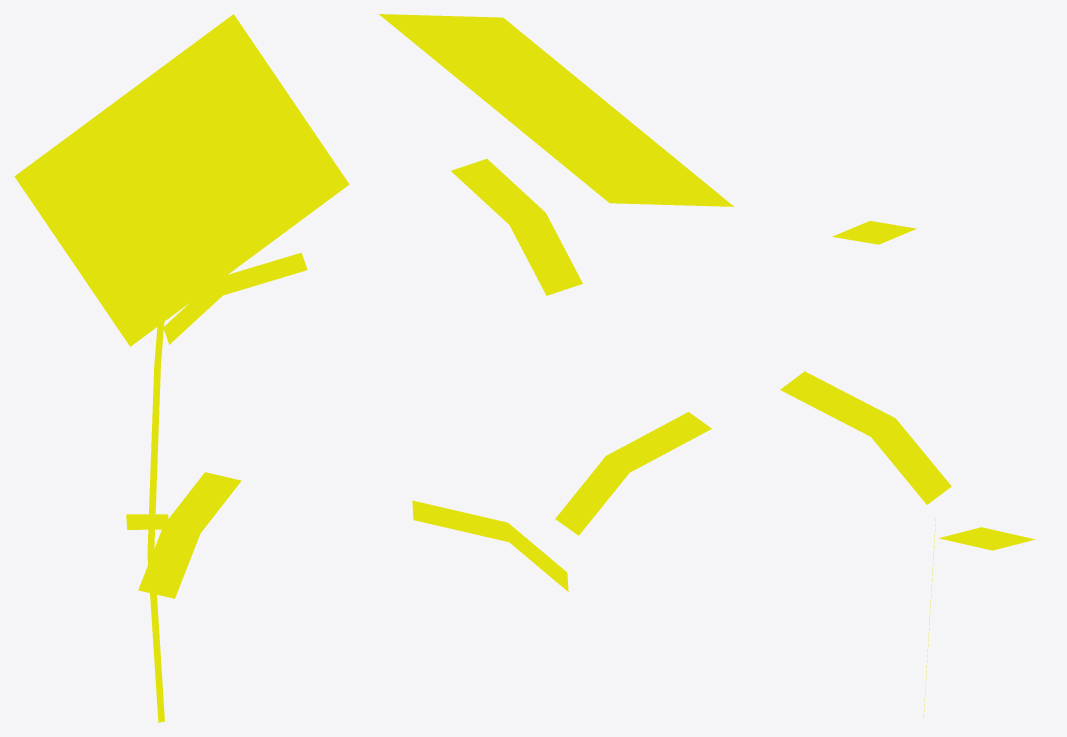
File: Foliage_Flowers_Blue_Flowers_BlueFlower_Low.glb
3 views of the same model, side by side, from view 1: azimuth 30°, elevation 25°; view 2: azimuth 150°, elevation 25°; view 3: azimuth 270°, elevation 25° (orthographic). The views are drawn at different scales.
Visible parts, largest first — view 1: Blue.Low.LOD.003; view 2: Blue.Low.LOD.003; view 3: Blue.Low.LOD.003.
Boxes of the visible parts, x1,y1,x2,y2 form: Blue.Low.LOD.003: (14, 14, 349, 722); Blue.Low.LOD.003: (379, 14, 733, 591); Blue.Low.LOD.003: (780, 221, 1035, 717).
Bounding box in the file's own units: 0.0494 × 0.141 × 0.0475.
1 material, 1 textured.
